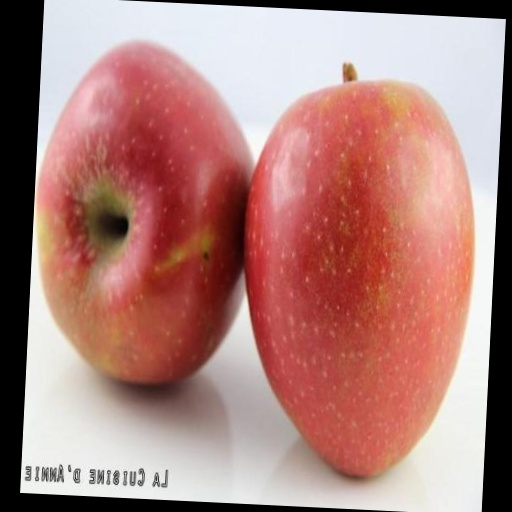fruit: (245, 66, 473, 474), (37, 43, 251, 382)
